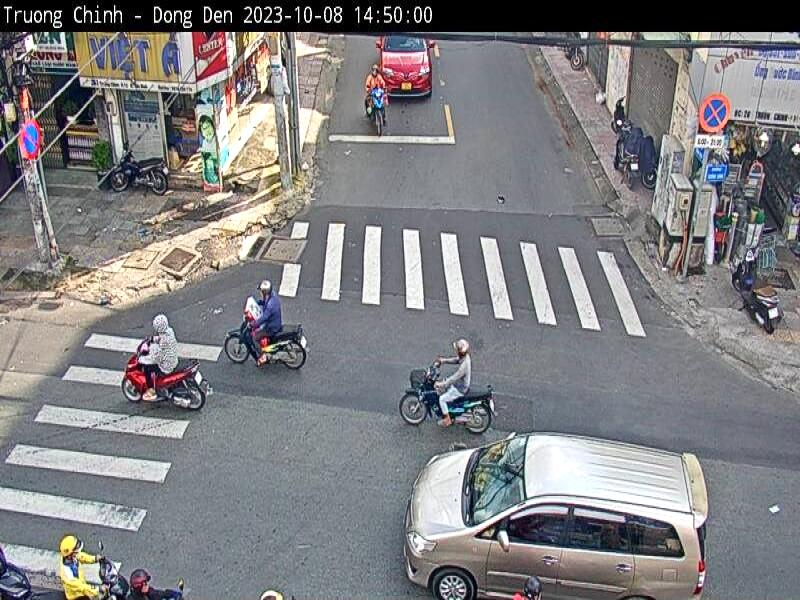car: (405, 435, 708, 600), (375, 34, 434, 99)
motorcycle: (401, 356, 496, 432), (125, 343, 210, 414), (223, 309, 306, 374), (733, 247, 785, 335)
